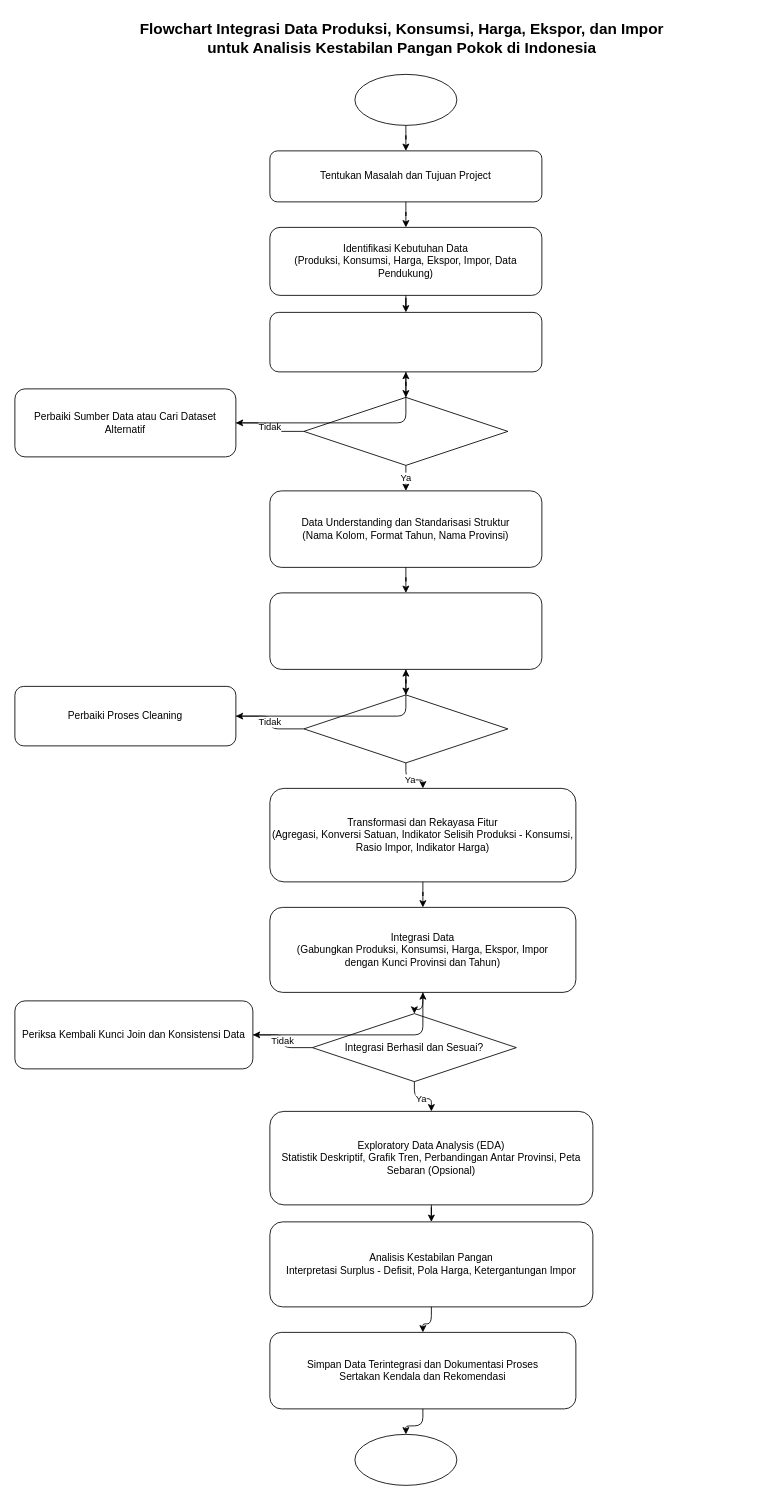
Some shapes in this 778 by 1500 pixel diagram are drawn without their labels. Each missing label, with the centre of its shape:
"Data Cleaning (Missing Value, Duplikasi, Nilai Tidak Logis, Tipe Data)" goes at (405,630).
"Data Lengkap dan Dapat Digunakan?" goes at (405,431).
"Data Sudah Bersih dan Konsisten?" goes at (405,728).
"End" goes at (405,1459).
"Kumpulkan Data dari Berbagai Sumber (BPS, Kementerian, dll)" goes at (405,342).
"Start" goes at (405,99).
